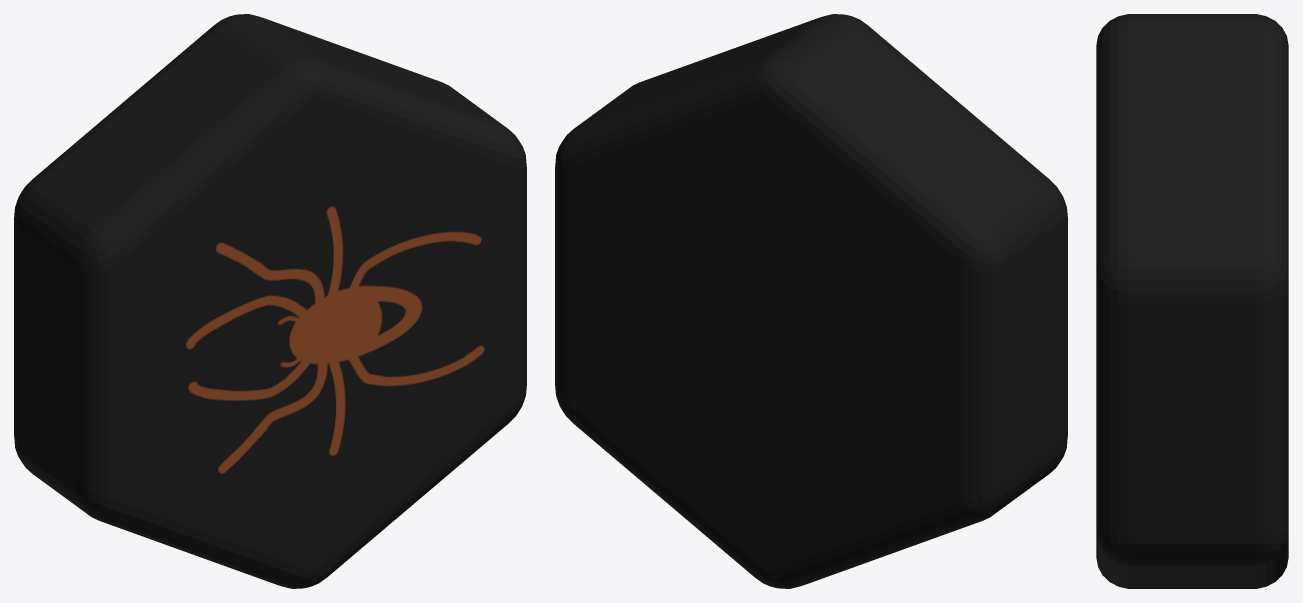
3 views of the same model, side by side, from view 1: azimuth 30°, elevation 25°; view 2: azimuth 150°, elevation 25°; view 3: azimuth 270°, elevation 25° (orthographic). The views are drawn at different scales.
Visible parts, largest first — view 1: bS; view 2: bS; view 3: bS.
Part boxes in pixels (x1=…): bS: x1=14, y1=14, x2=526, y2=588; bS: x1=555, y1=14, x2=1067, y2=588; bS: x1=1096, y1=14, x2=1288, y2=588.
Size of the model in its own units: 0.0866 by 0.0973 by 0.03.
1 material, 1 textured.
